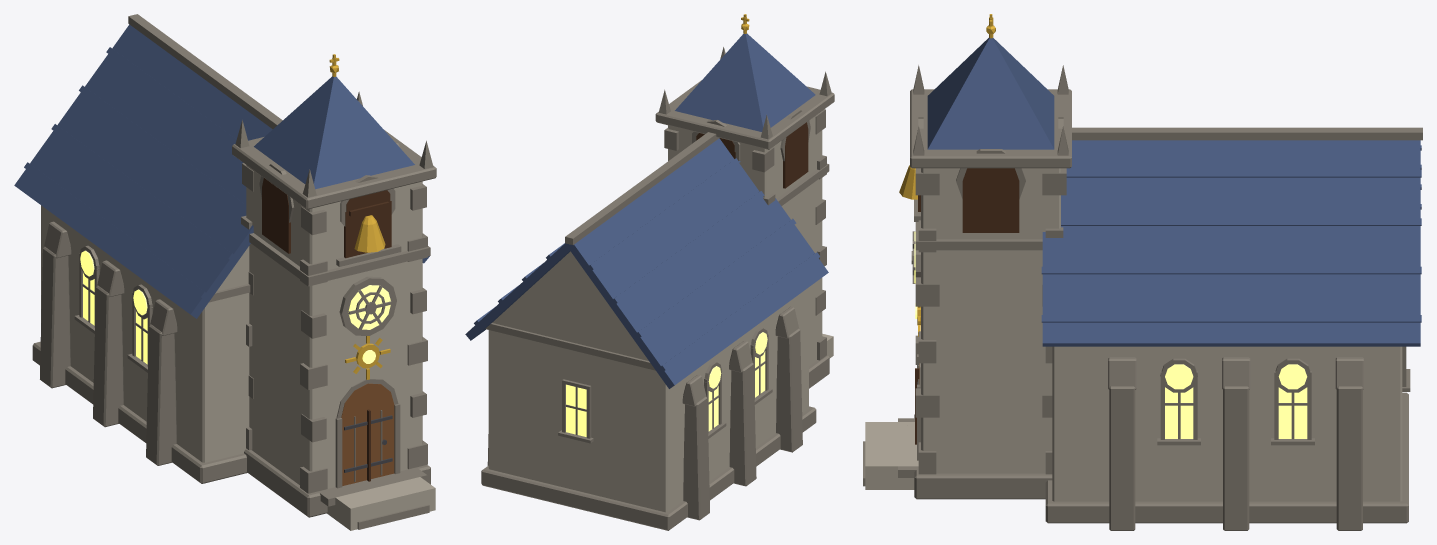
File: Kapelle.fbx
3 renders of one model, left to right at view 1: azimuth 30°, elevation 25°; view 2: azimuth 150°, elevation 25°; view 3: azimuth 270°, elevation 25°, orthographic. The views are drawn at different scales.
Visible parts, largest first — view 1: Kapelle; view 2: Kapelle; view 3: Kapelle.
Boxes of the visible parts, left/top/right/bottom form: Kapelle: left=14, top=14, right=436, bottom=530; Kapelle: left=465, top=14, right=834, bottom=530; Kapelle: left=863, top=14, right=1422, bottom=530.
Size of the model in its own units: 6.9 by 11.43 by 12.79.
